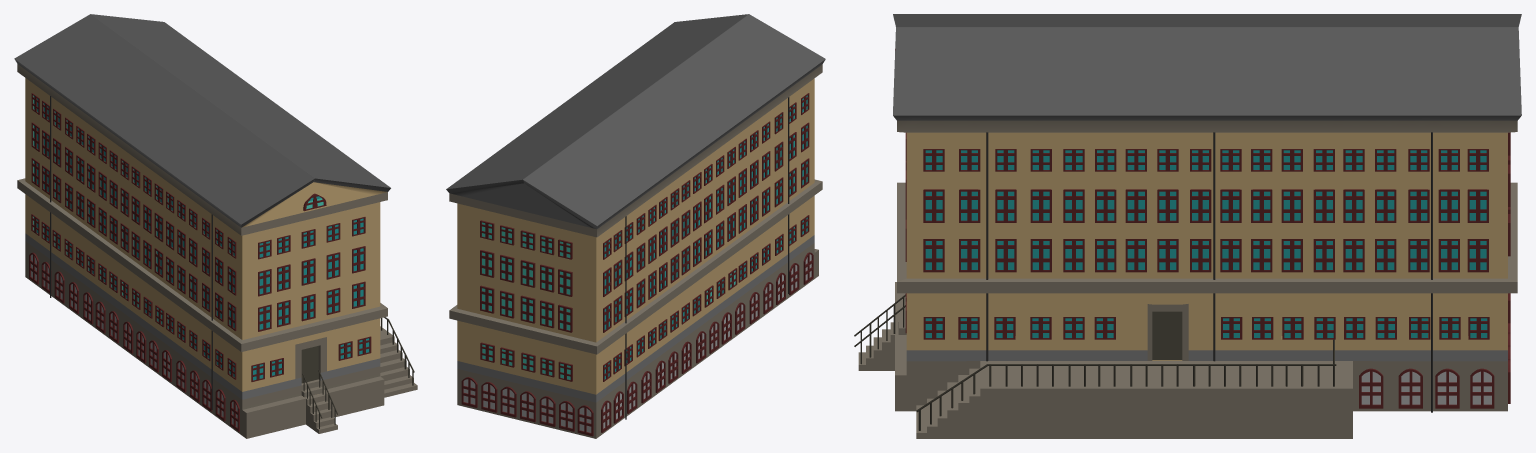
The model's file is Högsta förvaltningsdomstolen.fbx.
The picture shows the model from 3 angles, left to right: view 1: azimuth 30°, elevation 25°; view 2: azimuth 150°, elevation 25°; view 3: azimuth 270°, elevation 25°; orthographic projection. The views are drawn at different scales.
Visible parts, largest first — view 1: polySurface3; view 2: polySurface3; view 3: polySurface3.
Boxes of the visible parts, left/top/right/bottom form: polySurface3: left=14, top=14, right=417, bottom=438; polySurface3: left=446, top=14, right=825, bottom=438; polySurface3: left=854, top=14, right=1521, bottom=438.
Size of the model in its own units: 292 by 368 by 659.
